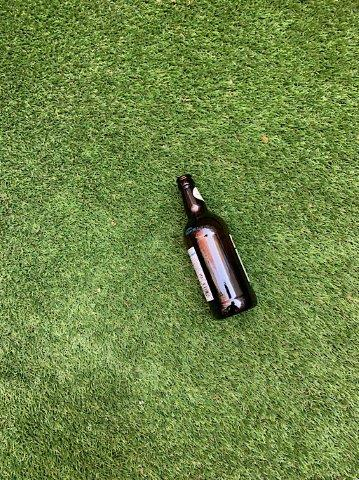botolkaca: (177, 174, 259, 318)
